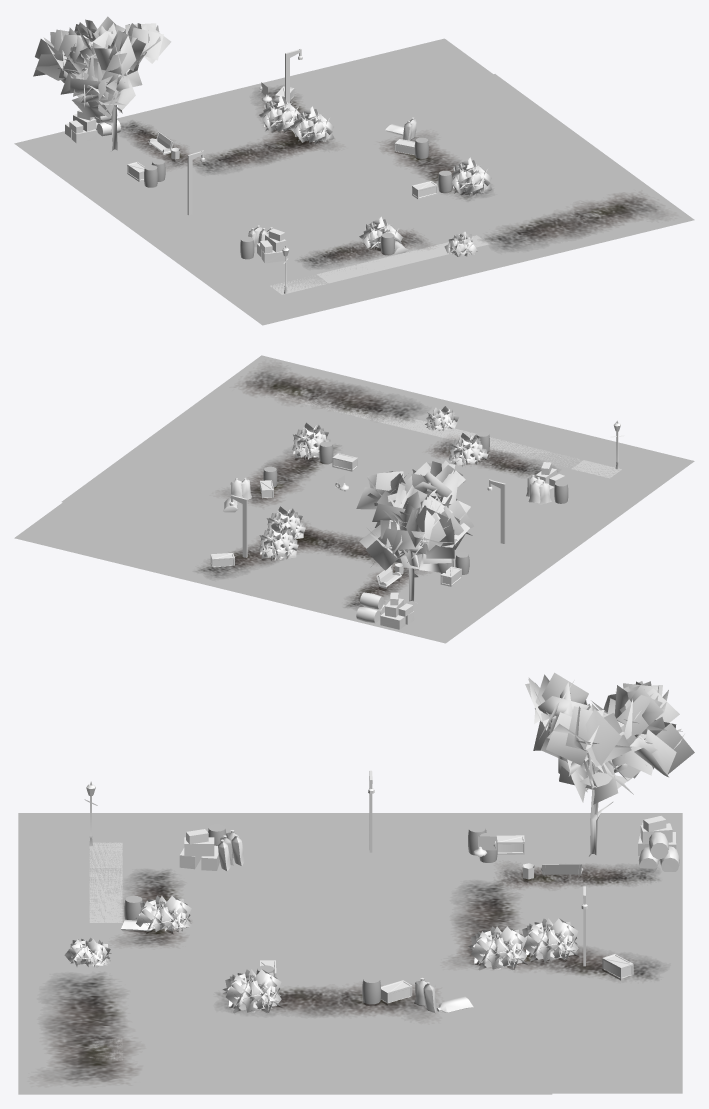
Rendered from propsonly_malt5-corner1.gltf.
3 renders of one model, top to bottom at view 1: azimuth 30°, elevation 25°; view 2: azimuth 150°, elevation 25°; view 3: azimuth 270°, elevation 25°, orthographic. The views are drawn at different scales.
Visible parts, largest first — view 1: prop_tree.004, file_b2_ground1.119, file_b2_ground3.019, file_b12_ground.001, file_b2_ground4.012, file_b2_ground2.008, file_b2_ground3.015, file_b2_ground1.022, file_b2_ground1.127, file_b2_ground1.128, file_b2_ground2.014, file_b2_ground2.016 (+28 smaller); view 2: prop_tree.004, file_b2_ground2.016, file_b2_ground1.119, file_b2_ground3.019, file_b2_ground4.012, file_b8_ground3.001, file_b2_ground1.127, file_b2_ground1.020, file_b2_ground1.128, file_b2_ground3.020, file_b2_ground2.008, file_b2_ground1.024 (+31 smaller); view 3: prop_tree.004, file_b2_ground4.012, file_b2_ground1.127, file_b2_ground3.015, file_b2_ground3.019, file_b2_ground1.119, file_b2_ground2.016, file_b2_ground2.008, file_b2_ground1.019, file_b12_ground.001, file_b2_ground1.129, file_b2_ground1.022 (+29 smaller).
Boxes of the visible parts, box(x1,y1,x2,y2) form: prop_tree.004: box(33, 16, 171, 150); file_b2_ground1.119: box(462, 202, 608, 263); file_b2_ground3.019: box(352, 38, 497, 99); file_b12_ground.001: box(214, 263, 354, 325); file_b2_ground4.012: box(502, 145, 645, 203); file_b2_ground2.008: box(410, 74, 547, 135); file_b2_ground3.015: box(285, 151, 417, 212); file_b2_ground1.022: box(147, 137, 291, 197); file_b2_ground1.127: box(456, 109, 592, 171); file_b2_ground1.128: box(555, 183, 694, 240); file_b2_ground2.014: box(201, 176, 333, 232); file_b2_ground2.016: box(268, 61, 411, 118); prop_tree.004: box(356, 460, 473, 602); file_b2_ground2.016: box(99, 519, 242, 581); file_b2_ground1.119: box(294, 376, 438, 437); file_b2_ground3.019: box(14, 499, 151, 560); file_b2_ground4.012: box(162, 391, 298, 452); file_b8_ground3.001: box(455, 512, 594, 568); file_b2_ground1.127: box(113, 427, 247, 487); file_b2_ground1.020: box(481, 418, 609, 474); file_b2_ground1.128: box(208, 355, 354, 415); file_b2_ground3.020: box(184, 540, 320, 602); file_b2_ground2.008: box(61, 462, 195, 519); file_b2_ground1.024: box(197, 448, 342, 507); prop_tree.004: box(525, 672, 694, 856); file_b2_ground4.012: box(148, 1034, 291, 1094); file_b2_ground1.127: box(279, 1034, 422, 1094); file_b2_ground3.015: box(279, 923, 422, 983); file_b2_ground3.019: box(539, 1033, 682, 1093); file_b2_ground1.119: box(18, 983, 161, 1038); file_b2_ground2.016: box(539, 978, 682, 1038); file_b2_ground2.008: box(409, 1038, 552, 1094); file_b2_ground1.019: box(18, 923, 161, 983); file_b12_ground.001: box(18, 813, 161, 873); file_b2_ground1.129: box(539, 868, 682, 927); file_b2_ground1.022: box(409, 868, 551, 928).
Size of what is drawn, in the model's own units: 5.12 by 1.63 by 5.23.
